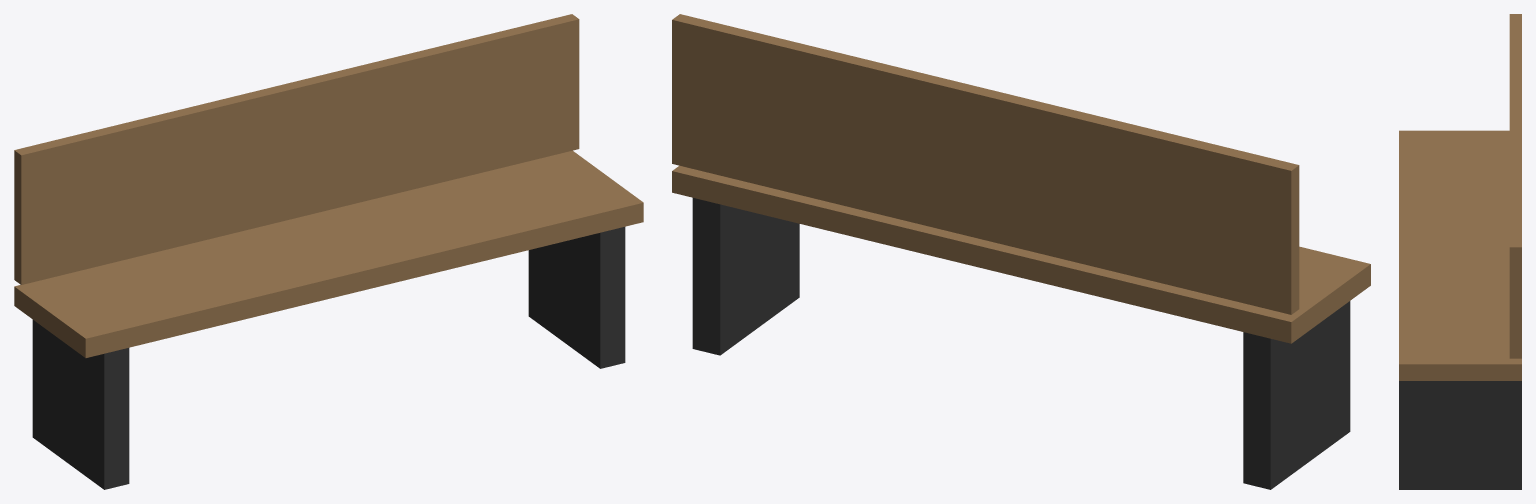
Rendered from banco_praca.glb.
3 views of the same model, side by side, from view 1: azimuth 30°, elevation 25°; view 2: azimuth 150°, elevation 25°; view 3: azimuth 270°, elevation 25° (orthographic). The views are drawn at different scales.
Visible parts, largest first — view 1: banco_praca; view 2: banco_praca; view 3: banco_praca.
Boxes of the visible parts, <box> form: banco_praca: <box>14,14,643,489</box>; banco_praca: <box>672,14,1370,489</box>; banco_praca: <box>1399,14,1521,489</box>.
Bounding box in the file's own units: 1.8 × 0.9 × 0.4.
